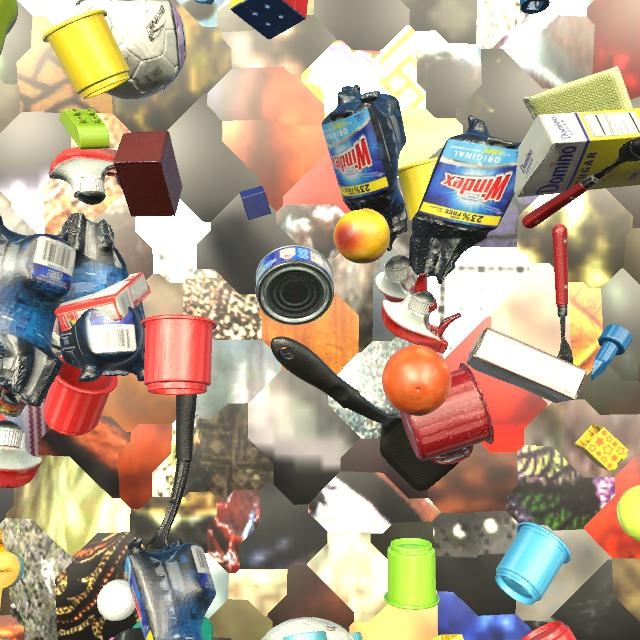ycb_004_sugar_box: (514, 108, 640, 197)
ycb_005_tomato_soup_can: (0, 331, 62, 417)
ycb_007_tuna_fish_can: (255, 244, 334, 325)
ycb_008_pudding_box: (467, 326, 588, 403)
ycb_009_gelatin_box: (54, 272, 151, 332)
ycb_015_peach: (333, 209, 390, 264)
ycb_016_pear: (0, 0, 18, 55)
ycb_017_orange: (382, 345, 452, 416)
